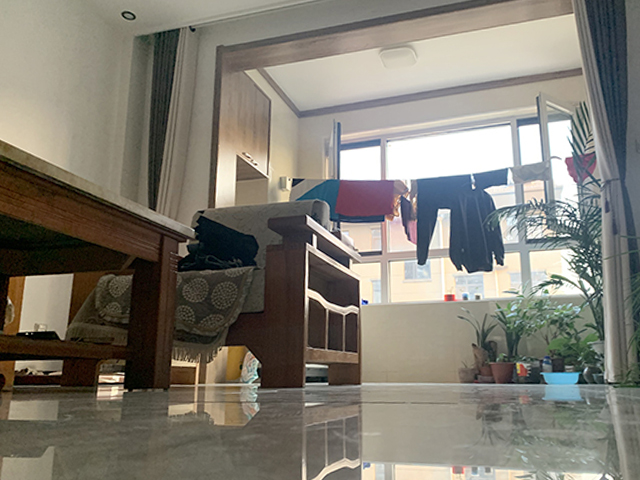curtain: (571, 1, 640, 383)
sofa: (63, 198, 362, 391)
table: (1, 139, 196, 392)
